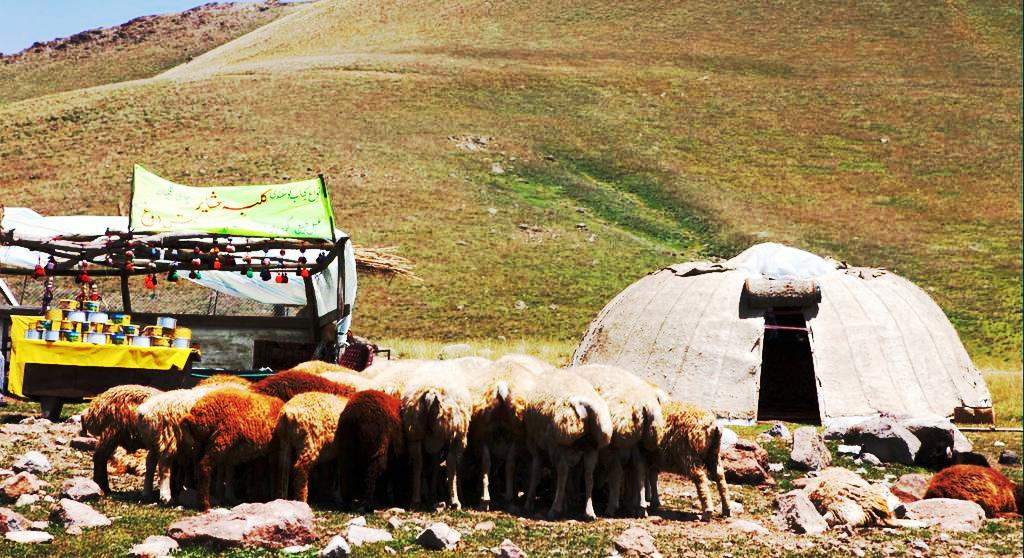Sheep: (560, 356, 665, 524), (524, 366, 616, 524), (456, 356, 536, 514), (399, 359, 473, 514), (275, 389, 367, 509), (200, 378, 286, 503), (133, 388, 219, 506), (82, 383, 168, 498), (648, 400, 728, 522), (333, 388, 406, 511), (793, 463, 905, 537), (922, 463, 1024, 520), (496, 353, 550, 377)
